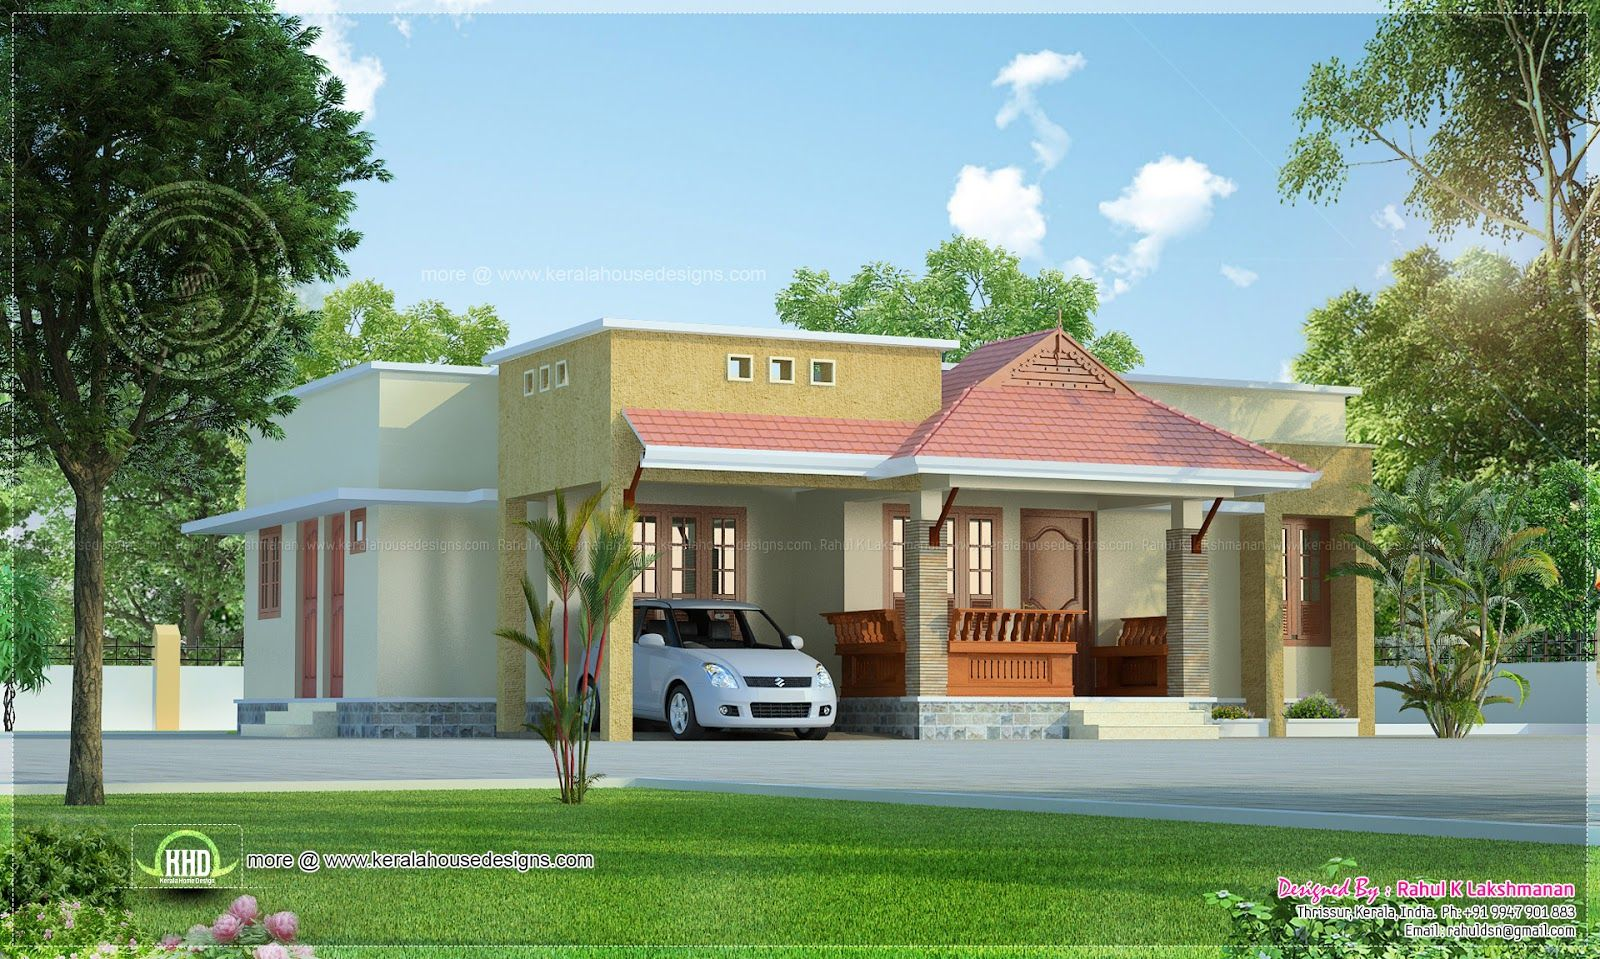Building House: (203, 308, 1395, 752)
